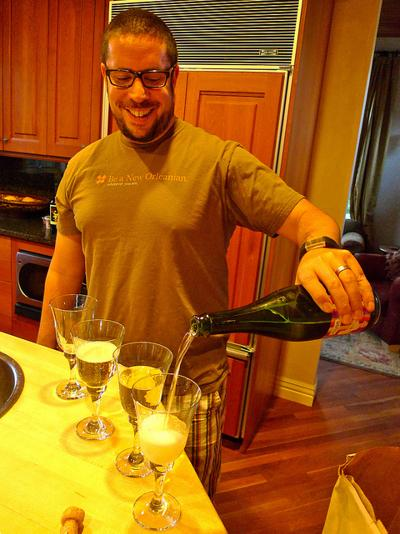person: (38, 8, 375, 507)
